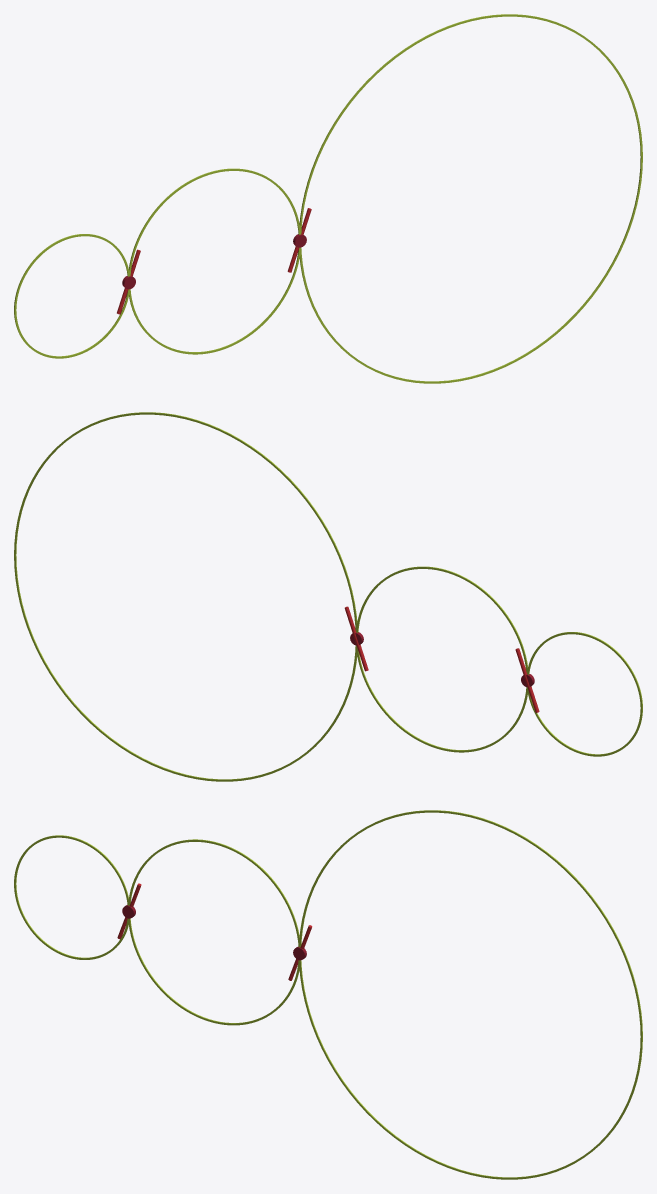
The model's file is gear_assembly_pressure.glb.
The picture shows the model from 3 angles, top to bottom: view 1: azimuth 30°, elevation 25°; view 2: azimuth 150°, elevation 25°; view 3: azimuth 330°, elevation 25°; orthographic projection.
Visible parts, largest first — view 1: pressure__back; view 2: pressure__back; view 3: pressure__back.
Part boxes in pixels (box(x1,y1,x2,y2)): pressure__back: box(14, 14, 642, 383); pressure__back: box(14, 412, 642, 781); pressure__back: box(14, 810, 642, 1179).
Size of the model in its own units: 1.06 by 0.579 by 0.007.
